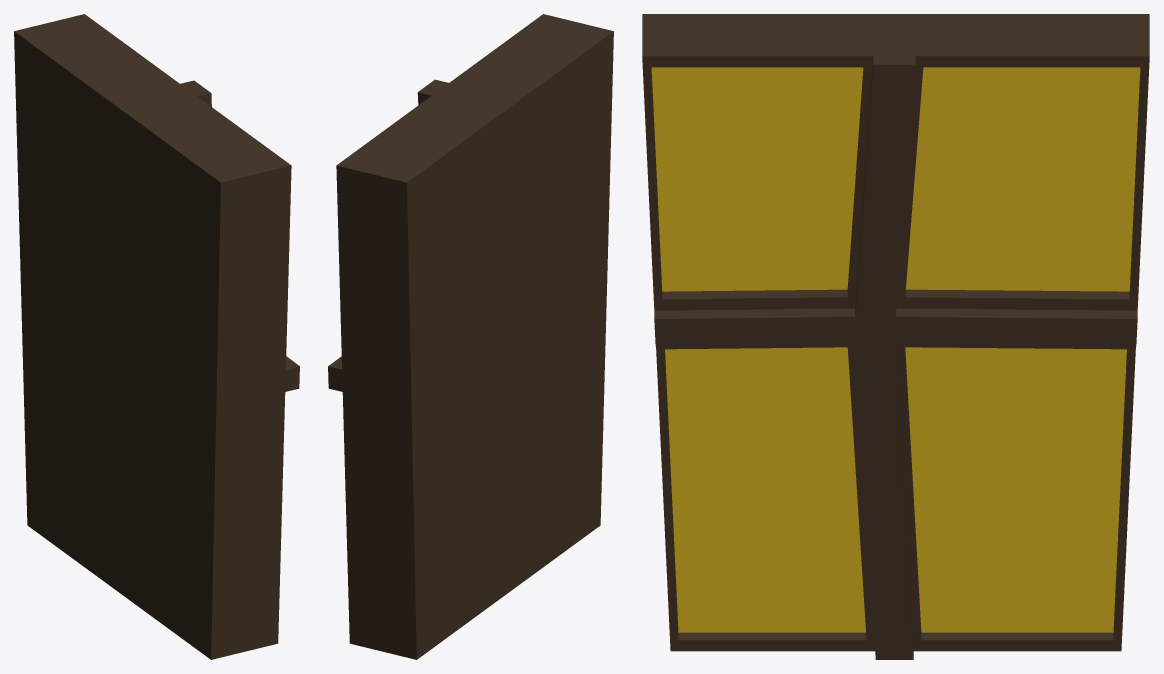
File: SquareWindow.fbx
The picture shows the model from 3 angles, left to right: view 1: azimuth 30°, elevation 25°; view 2: azimuth 150°, elevation 25°; view 3: azimuth 270°, elevation 25°; orthographic projection. The views are drawn at different scales.
Visible parts, largest first — view 1: Cube.177; view 2: Cube.177; view 3: Cube.177.
Boxes of the visible parts, <box> form: Cube.177: <box>14,14,299,659</box>; Cube.177: <box>328,14,613,659</box>; Cube.177: <box>642,14,1149,659</box>.
Bounding box in the file's own units: 10.53 × 57.75 × 44.55.
